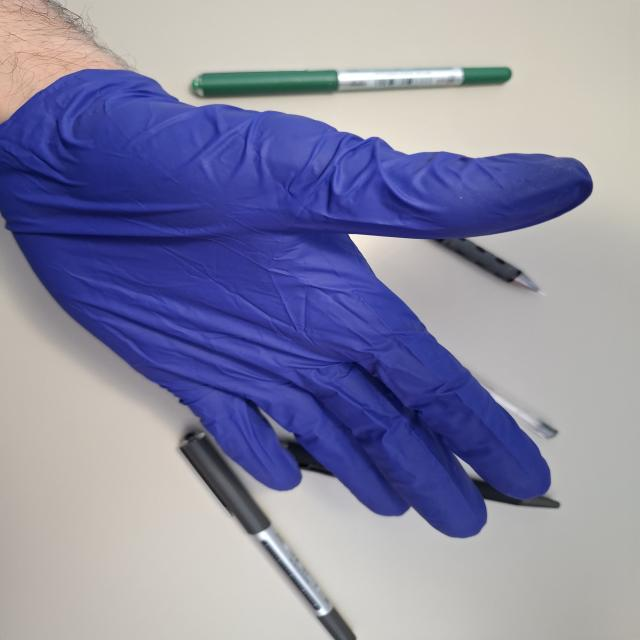glove_on: (0, 53, 599, 540)
